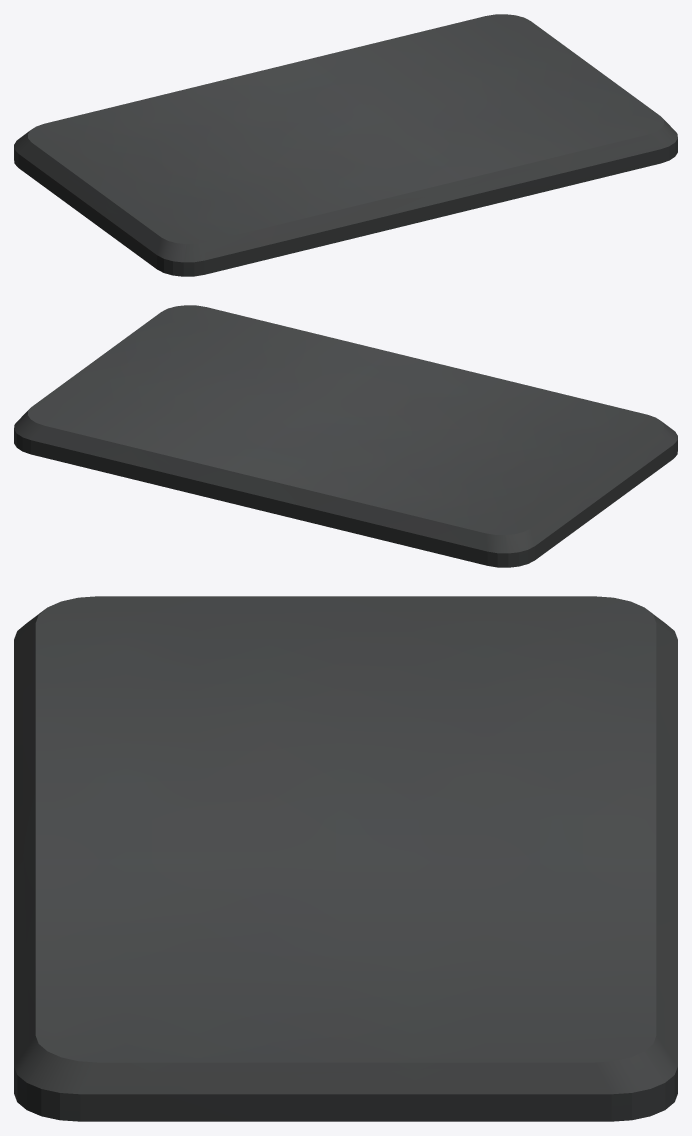
The model's file is Platform_Rect_Sloped.fbx.
3 renders of one model, top to bottom at view 1: azimuth 30°, elevation 25°; view 2: azimuth 150°, elevation 25°; view 3: azimuth 270°, elevation 25°, orthographic. The views are drawn at different scales.
Visible parts, largest first — view 1: Platform_Rect_Sloped; view 2: Platform_Rect_Sloped; view 3: Platform_Rect_Sloped.
Part boxes in pixels (x1=…): Platform_Rect_Sloped: x1=14, y1=14, x2=677, y2=276; Platform_Rect_Sloped: x1=14, y1=305, x2=677, y2=567; Platform_Rect_Sloped: x1=14, y1=596, x2=677, y2=1121.
Bounding box in the file's own units: 746 × 36.67 × 433.
